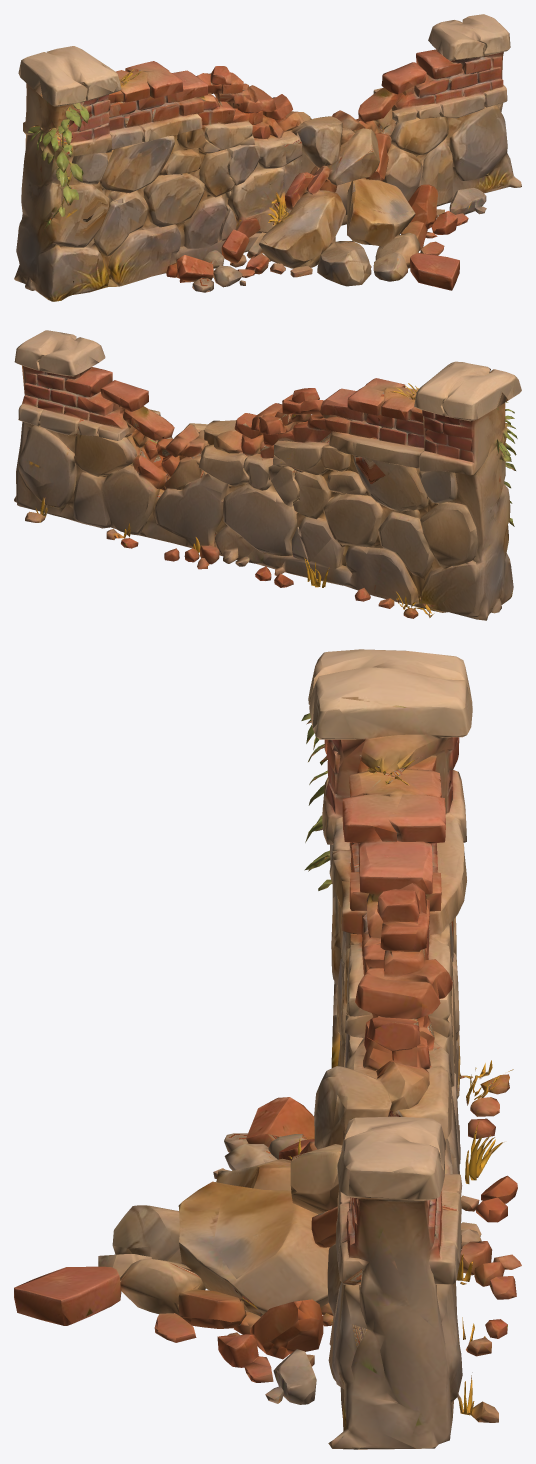
The model's file is ruined-stone-wall.glb.
3 renders of one model, top to bottom at view 1: azimuth 30°, elevation 25°; view 2: azimuth 150°, elevation 25°; view 3: azimuth 270°, elevation 25°, orthographic. The views are drawn at different scales.
Parts seen in each view (by area): view 1: SM_RuinedStoneWall; view 2: SM_RuinedStoneWall; view 3: SM_RuinedStoneWall.
Boxes of the visible parts, x1,y1,x2,y2 form: SM_RuinedStoneWall: (14, 14, 521, 301); SM_RuinedStoneWall: (14, 330, 521, 620); SM_RuinedStoneWall: (14, 649, 521, 1449).
Bounding box in the file's own units: 4 × 1.81 × 2.06.
1 material, 1 textured.
